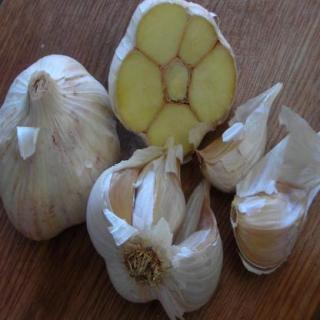Bawang Putih: (87, 146, 225, 318), (1, 55, 123, 241), (109, 2, 239, 157), (195, 84, 282, 194), (234, 179, 310, 272)
